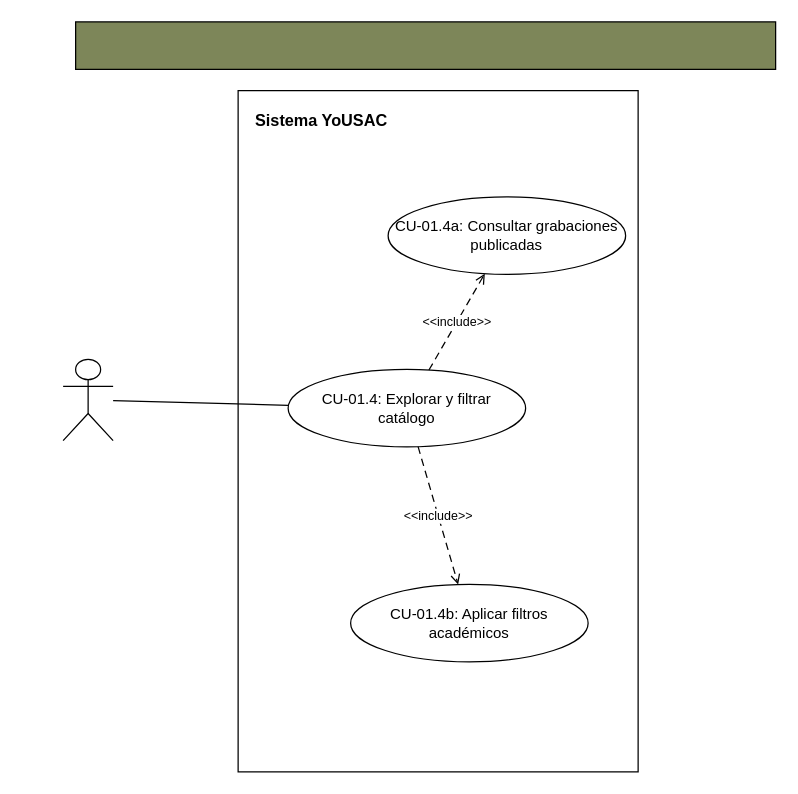
Some shapes in this 798 by 794 pixel diagram are drawn without their labels. Here are the shapes that lost their labels. From the top down, the centre of each, then its label:
At (x=425, y=45): "Plataforma YoUSAC — CU-01.4 — Explorar y filtrar catálogo".
At (x=87, y=399): "Usuario institucional".
